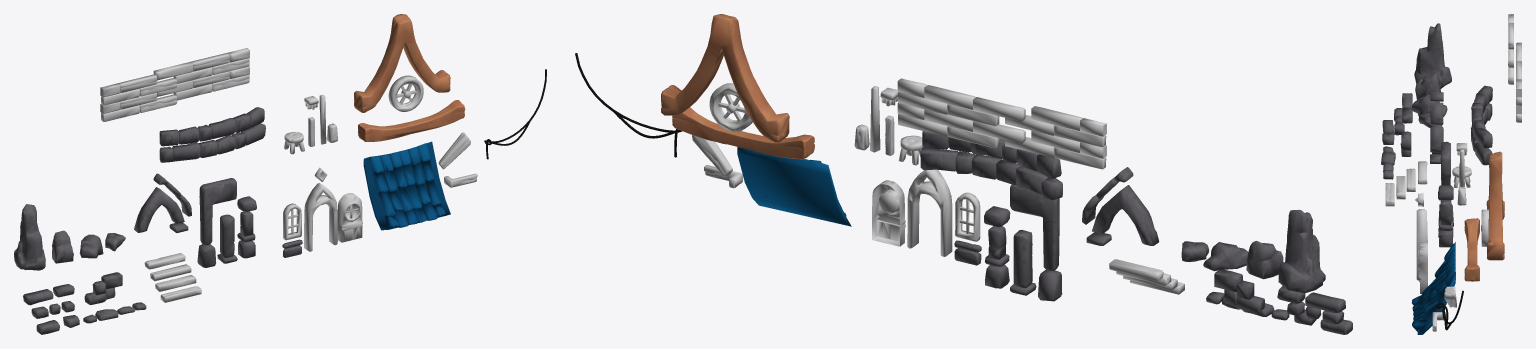
The model's file is props.fbx.
3 renders of one model, left to right at view 1: azimuth 30°, elevation 25°; view 2: azimuth 150°, elevation 25°; view 3: azimuth 270°, elevation 25°, orthographic. The views are drawn at different scales.
Visible parts, largest first — view 1: Low_techo, Low_Maderas_techo_oak_01_L, Low_oak_slab_cube.001, Low_oak_slab_cube, Low_piedra_curva.001, Low_piedra_curva, Low_Maderas_techo_oak_02_L, Low_piedras_deformed_rock_02_L, Low_piedras_rock_19_L, Low_madera_door_01_L, Low_madera_door_02_L, Low_piedras_curve_rock_L (+13 smaller); view 2: Low_oak_slab_cube.001, Low_Maderas_techo_oak_01_L, Low_techo, Low_oak_slab_cube, Low_piedra_curva, Low_piedras_deformed_rock_02_L, Low_Maderas_techo_oak_02_L, Low_madera_door_01_L, Low_piedra_curva.001, Low_piedras_rock_19_L, Low_madera_door_02_L, Low_piedras_curve_rock_L (+13 smaller); view 3: Low_techo, Low_Maderas_techo_oak_01_L, Low_piedras_deformed_rock_02_L, Low_piedra_curva.001, Low_Maderas_techo_oak_02_L, Low_piedra_curva, Low_madera_door_01_L, Low_piedras_deformed_rock_04_L, Low_oak_slab_cube.001, Low_madera_door_02_L, Low_piedras_rock_19_L, Low_oak_slab_cube (+27 smaller).
Boxes of the visible parts, <box> form: Low_techo: <box>363,141,450,230</box>; Low_Maderas_techo_oak_01_L: <box>354,14,450,112</box>; Low_oak_slab_cube.001: <box>153,48,249,100</box>; Low_oak_slab_cube: <box>100,74,177,121</box>; Low_piedra_curva.001: <box>159,107,264,146</box>; Low_piedra_curva: <box>159,123,265,162</box>; Low_Maderas_techo_oak_02_L: <box>358,100,465,141</box>; Low_piedras_deformed_rock_02_L: <box>14,204,45,270</box>; Low_piedras_rock_19_L: <box>199,178,236,245</box>; Low_madera_door_01_L: <box>304,183,337,251</box>; Low_madera_door_02_L: <box>337,193,362,242</box>; Low_piedras_curve_rock_L: <box>134,187,184,232</box>; Low_oak_slab_cube.001: <box>897,78,1025,148</box>; Low_Maderas_techo_oak_01_L: <box>661,14,789,142</box>; Low_techo: <box>737,147,851,226</box>; Low_oak_slab_cube: <box>1005,106,1106,169</box>; Low_piedra_curva: <box>920,147,1062,199</box>; Low_piedras_deformed_rock_02_L: <box>1278,209,1325,293</box>; Low_Maderas_techo_oak_02_L: <box>672,107,814,159</box>; Low_madera_door_01_L: <box>907,169,952,256</box>; Low_piedra_curva.001: <box>922,131,1061,178</box>; Low_piedras_rock_19_L: <box>1010,184,1059,270</box>; Low_madera_door_02_L: <box>872,180,905,246</box>; Low_piedras_curve_rock_L: <box>1092,185,1159,245</box>; Low_techo: <box>1412,242,1455,334</box>; Low_Maderas_techo_oak_01_L: <box>1486,151,1504,260</box>; Low_piedras_deformed_rock_02_L: <box>1414,23,1451,88</box>; Low_piedra_curva.001: <box>1471,85,1492,148</box>; Low_Maderas_techo_oak_02_L: <box>1464,218,1479,281</box>; Low_piedra_curva: <box>1470,103,1492,165</box>; Low_madera_door_01_L: <box>1416,209,1427,280</box>; Low_piedras_deformed_rock_04_L: <box>1415,72,1440,99</box>; Low_oak_slab_cube.001: <box>1516,42,1521,122</box>; Low_madera_door_02_L: <box>1418,242,1427,293</box>; Low_piedras_rock_19_L: <box>1440,141,1450,185</box>; Low_oak_slab_cube: <box>1508,14,1513,84</box>.
Bounding box in the file's own units: 438 × 618 × 2008.
